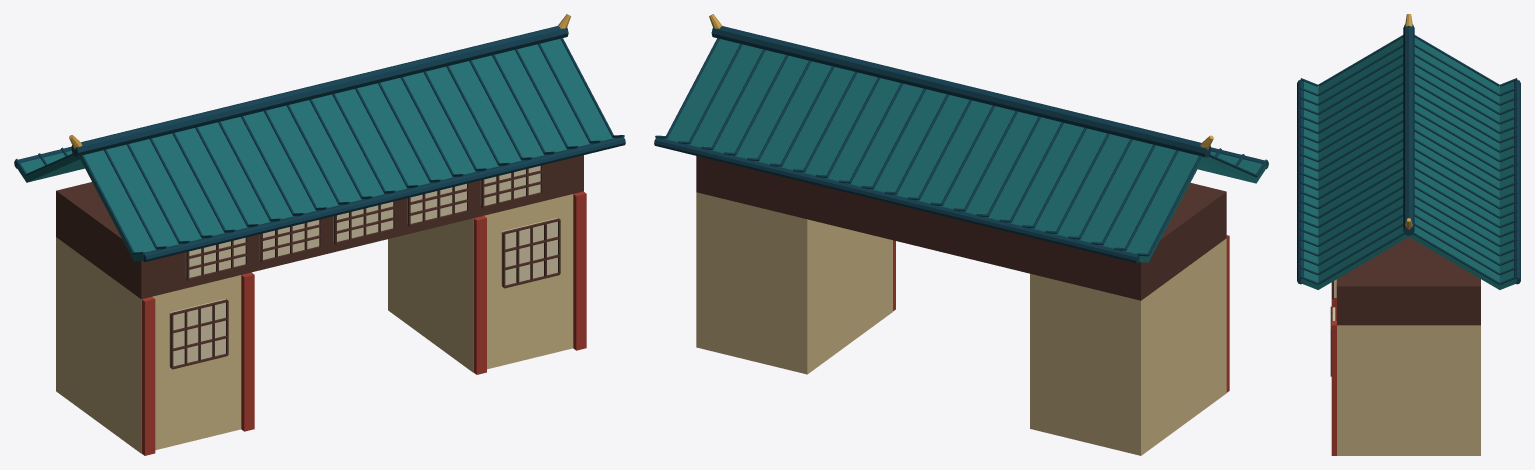
Rendered from gatehouse.glb.
3 renders of one model, left to right at view 1: azimuth 30°, elevation 25°; view 2: azimuth 150°, elevation 25°; view 3: azimuth 270°, elevation 25°, orthographic. The views are drawn at different scales.
Parts seen in each view (by area): view 1: gatehouse; view 2: gatehouse; view 3: gatehouse.
Boxes of the visible parts, x1,y1,x2,y2 form: gatehouse: (14,14,625,455); gatehouse: (654,14,1268,455); gatehouse: (1297,14,1520,455).
Size of the model in its own units: 13.6 by 7.61 by 6.21.
